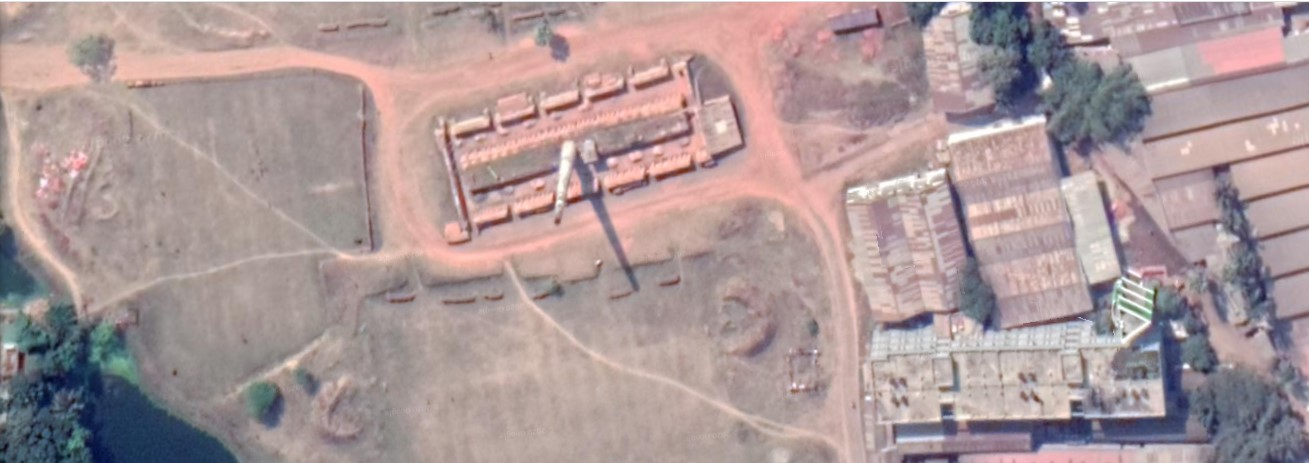kiln: (412, 88, 767, 232)
